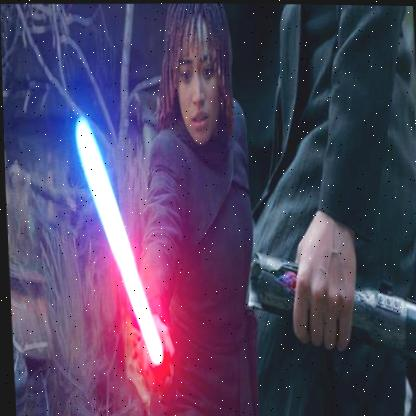lightsaber: (74, 115, 114, 196)
sith_lightsaber: (120, 257, 164, 367)
